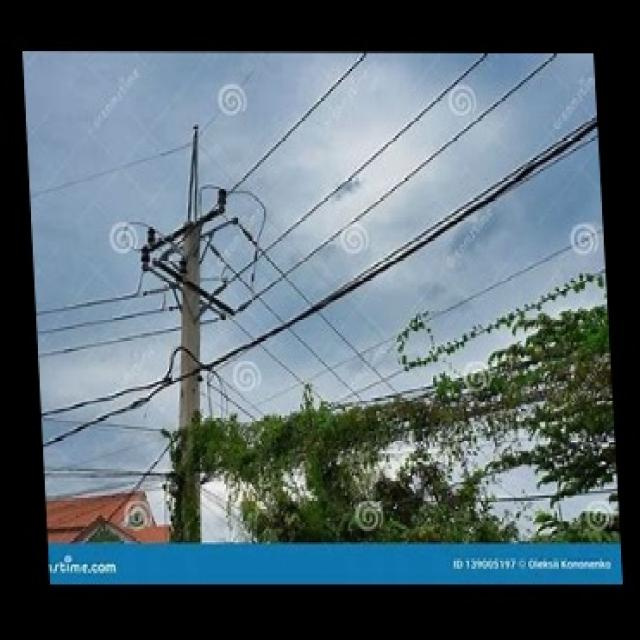critical vegetation: (184, 390, 616, 498)
